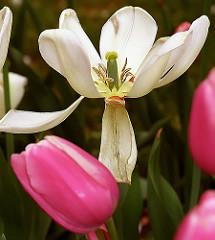tulip: (40, 6, 210, 181), (11, 136, 120, 232)
